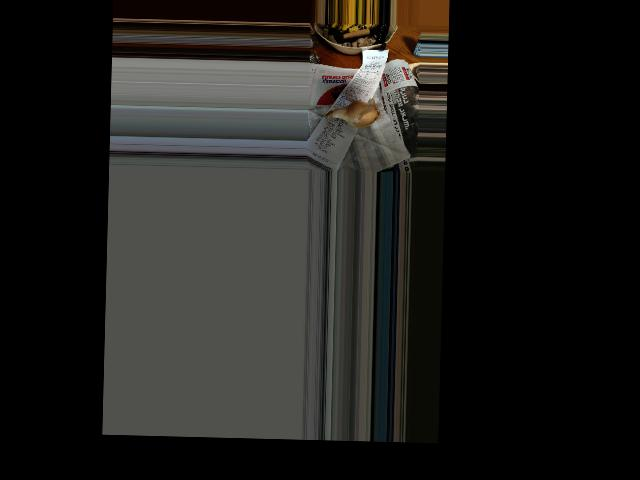onion: (340, 99, 376, 126)
